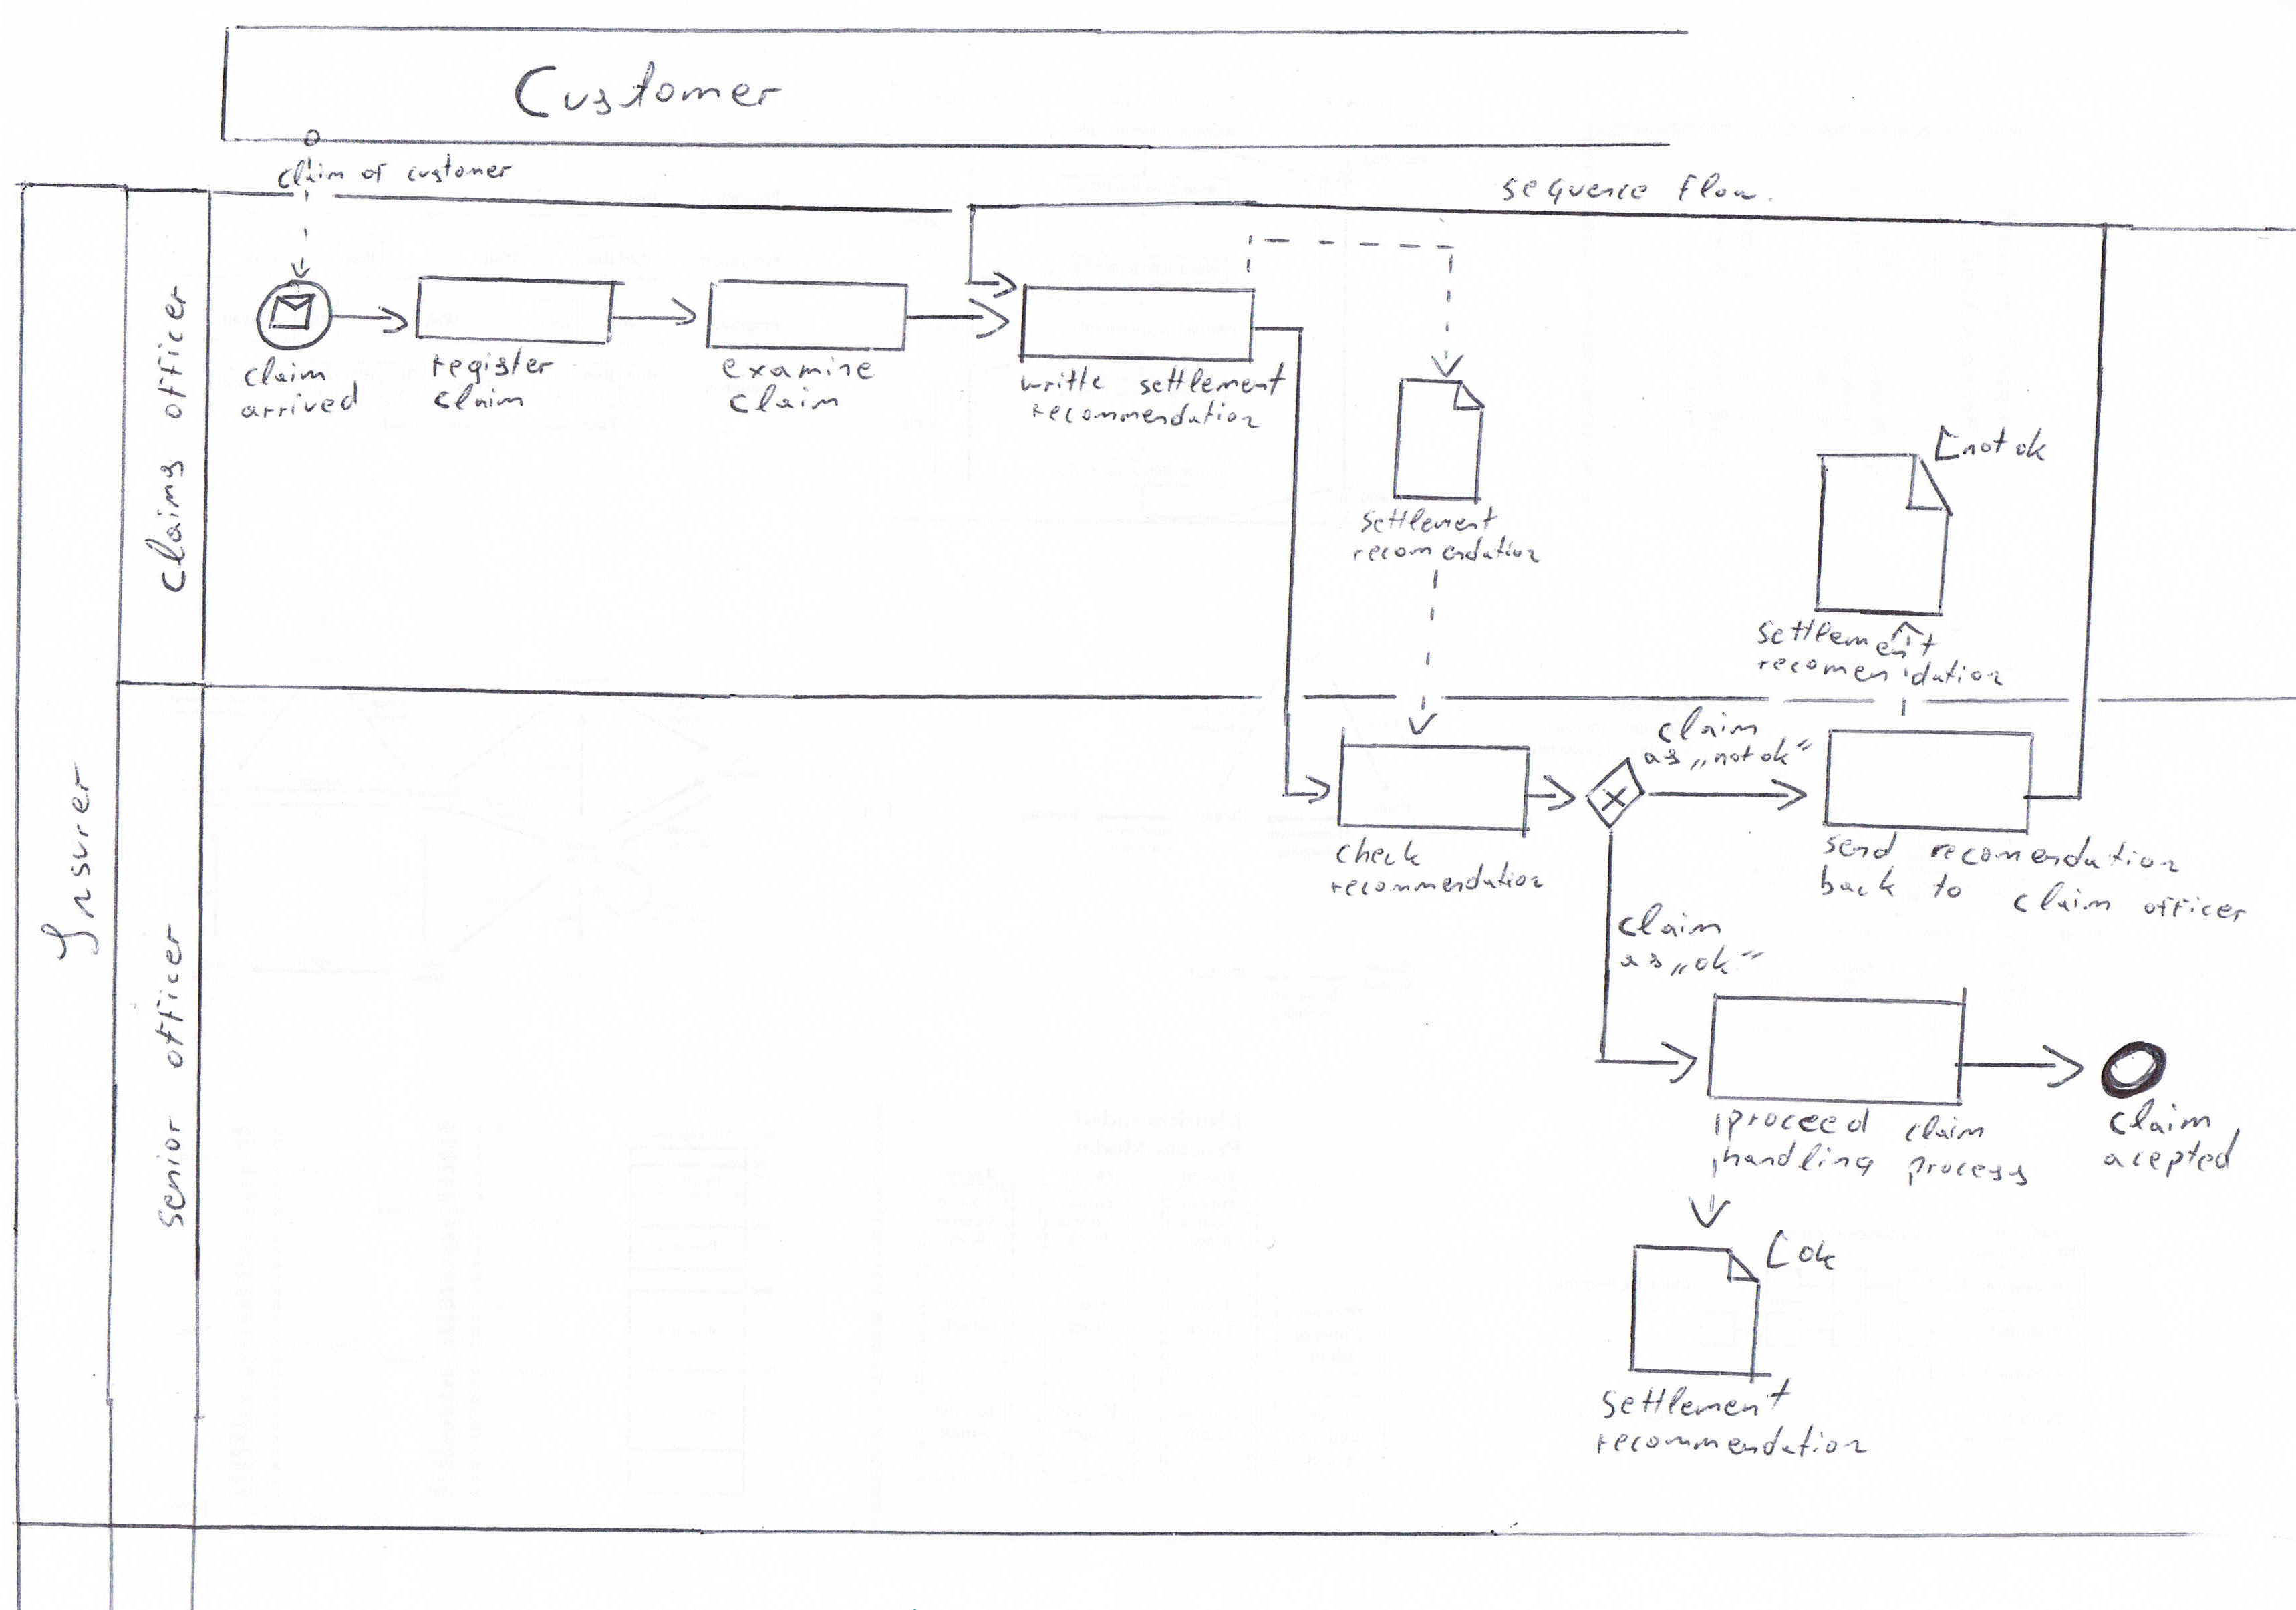Customer: (504, 51, 794, 129)
Insurer: (31, 754, 108, 970)
Recommendation: (1024, 394, 1265, 434)
acepted: (2095, 1123, 2245, 1184)
arrived: (234, 375, 363, 426)
as: (1614, 949, 1668, 973), (1638, 743, 1685, 771)
back: (1813, 856, 1903, 904)
check: (1328, 830, 1425, 874)
claim: (2102, 1092, 2216, 1141), (1610, 898, 1727, 944), (1650, 703, 1762, 748), (2006, 876, 2118, 919), (722, 380, 843, 419), (426, 377, 530, 415), (237, 351, 331, 392), (1898, 1109, 1991, 1146), (272, 153, 349, 192)
claims: (136, 454, 192, 600)
customer: (400, 148, 520, 188)
examine: (715, 351, 881, 385)
flow: (1673, 167, 1762, 209)
handling: (1717, 1134, 1879, 1183)
not: (1684, 740, 1757, 774), (1956, 420, 2012, 464)
of: (356, 157, 391, 188)
officer: (148, 277, 194, 424), (147, 918, 188, 1074), (2137, 891, 2251, 928)
ok: (1664, 940, 1769, 984), (1755, 733, 1816, 769), (1794, 1235, 1841, 1275), (2010, 422, 2050, 466)
proceed: (1719, 1099, 1877, 1148)
process: (1902, 1153, 2033, 1193)
recomendation: (1924, 829, 2186, 881), (1750, 652, 2008, 694), (1345, 529, 1544, 569)
recommendation: (1589, 1418, 1874, 1463), (1324, 855, 1549, 904)
register: (426, 340, 560, 389)
send: (1816, 825, 1905, 867)
senior: (148, 1109, 192, 1235)
sequence: (1495, 171, 1650, 211)
settlement: (1595, 1373, 1797, 1425), (1748, 612, 1942, 663), (1132, 358, 1291, 403), (1354, 499, 1502, 541)
to: (1926, 867, 1968, 905)
writte: (1014, 361, 1111, 399)
